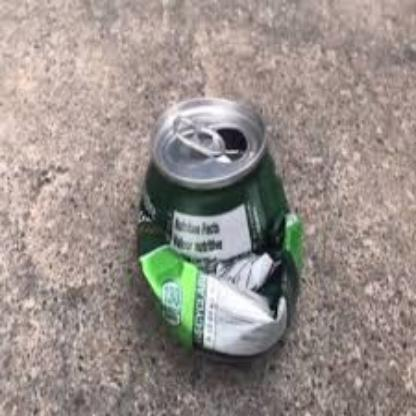Can: (134, 95, 304, 364)
